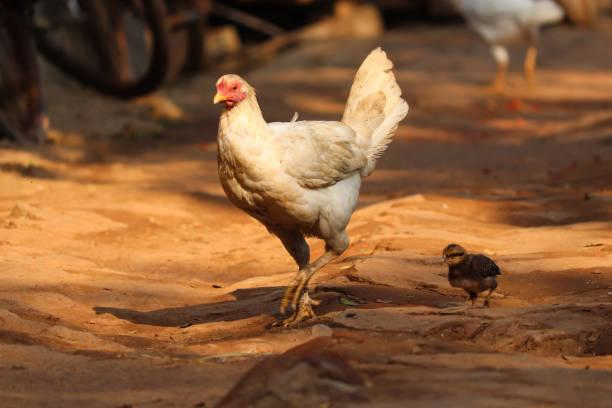AbNormal: (204, 42, 413, 322)
